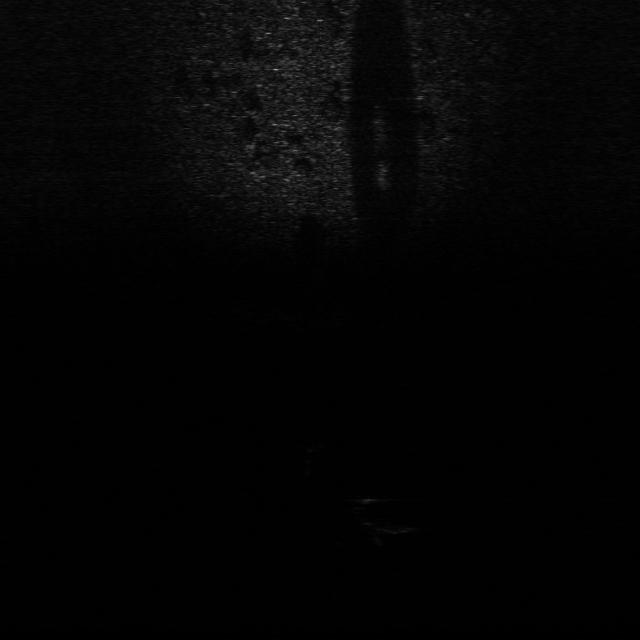tyre: (353, 491, 431, 540)
